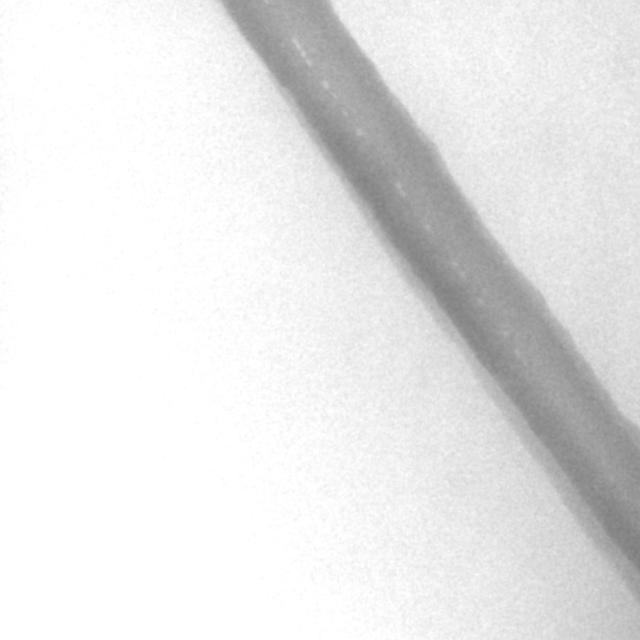air hole: (393, 180, 405, 196), (319, 77, 328, 90)
